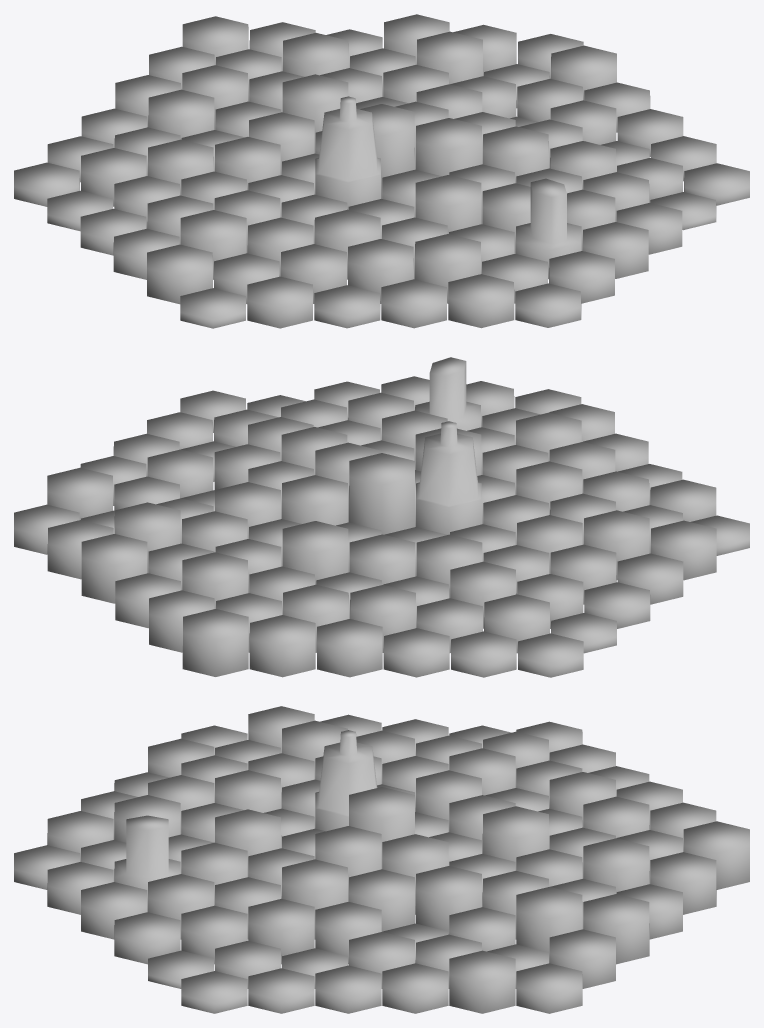
Rendered from ColliderBoard.glb.
The picture shows the model from 3 angles, top to bottom: view 1: azimuth 30°, elevation 25°; view 2: azimuth 150°, elevation 25°; view 3: azimuth 270°, elevation 25°; orthographic projection.
Visible parts, largest first — view 1: ColliderBoard; view 2: ColliderBoard; view 3: ColliderBoard.
Part boxes in pixels (x1=…): ColliderBoard: x1=14, y1=14, x2=749, y2=328; ColliderBoard: x1=14, y1=357, x2=749, y2=677; ColliderBoard: x1=14, y1=706, x2=749, y2=1013.
Size of the model in its own units: 13.4 by 2.58 by 14.89.
Materials: 1 (1 with a texture image).
